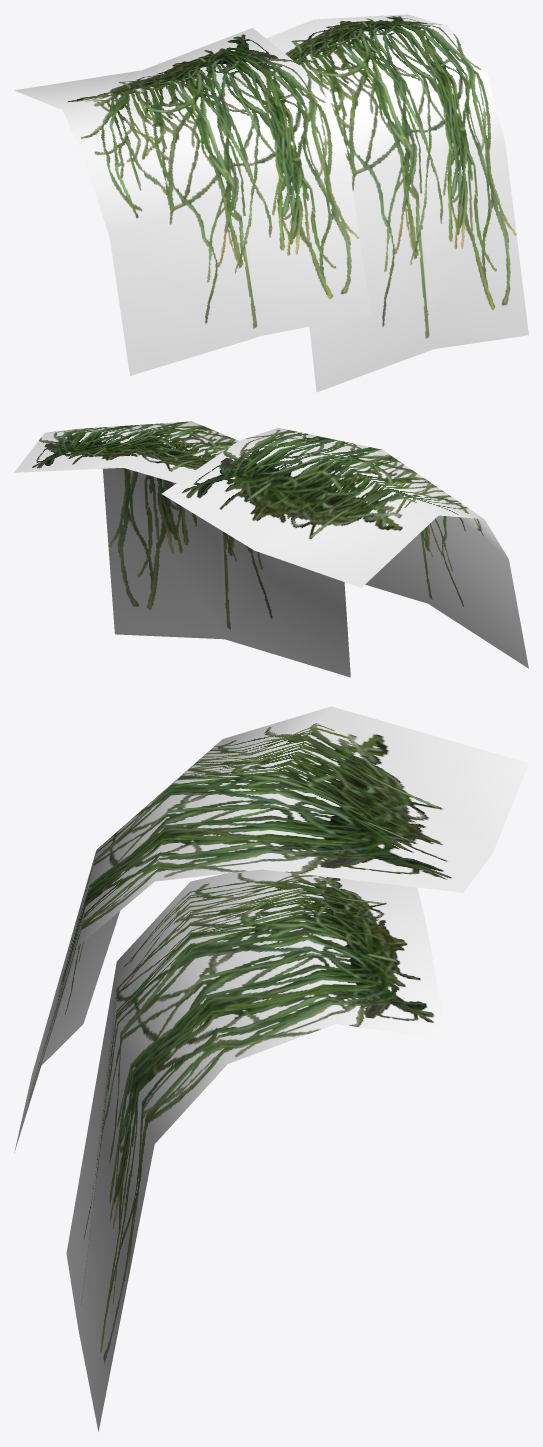
Rendered from plant08c.fbx.
3 views of the same model, one above another, from view 1: azimuth 30°, elevation 25°; view 2: azimuth 150°, elevation 25°; view 3: azimuth 270°, elevation 25° (orthographic). The views are drawn at different scales.
Parts seen in each view (by area): view 1: plant08c; view 2: plant08c; view 3: plant08c.
Boxes of the visible parts, x1,y1,x2,y2 form: plant08c: (14,14,528,392); plant08c: (14,421,528,677); plant08c: (14,706,528,1431).
Size of the model in its own units: 1.02 by 0.6739 by 0.7086.
